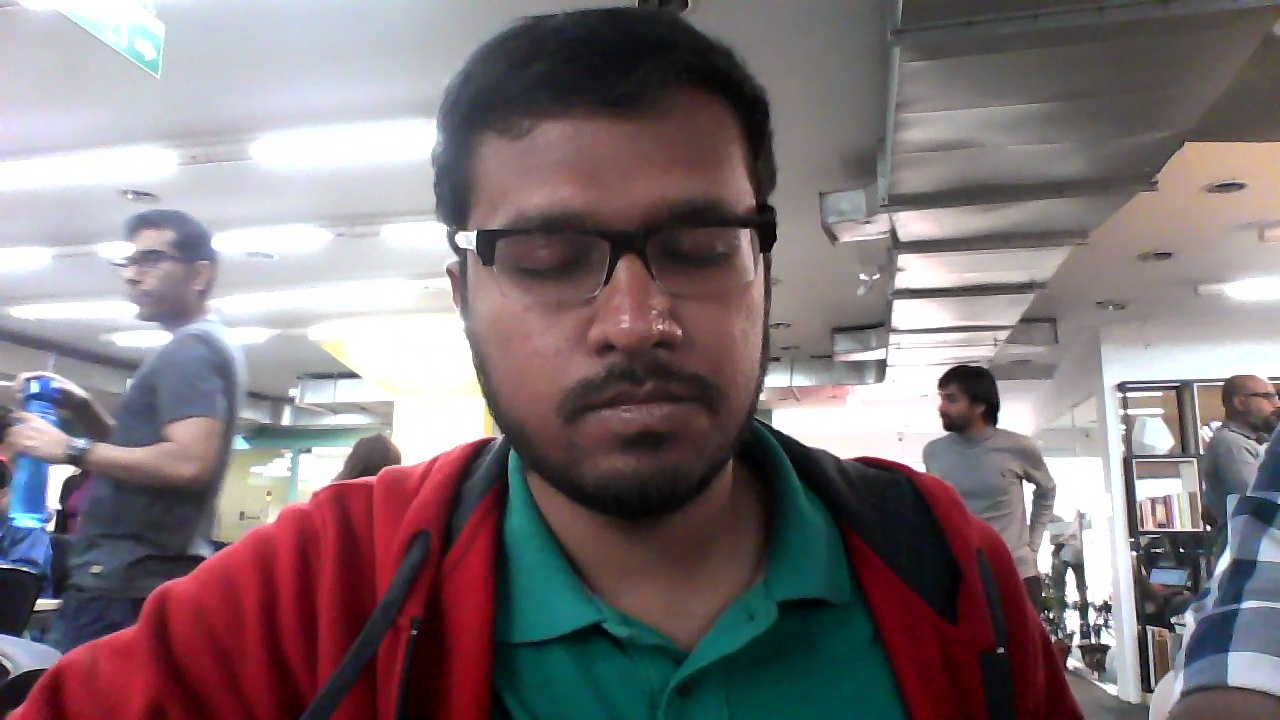closed: (436, 9, 788, 522)
